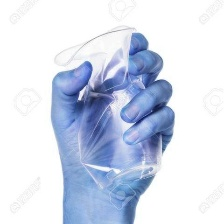glass: (42, 19, 166, 196)
